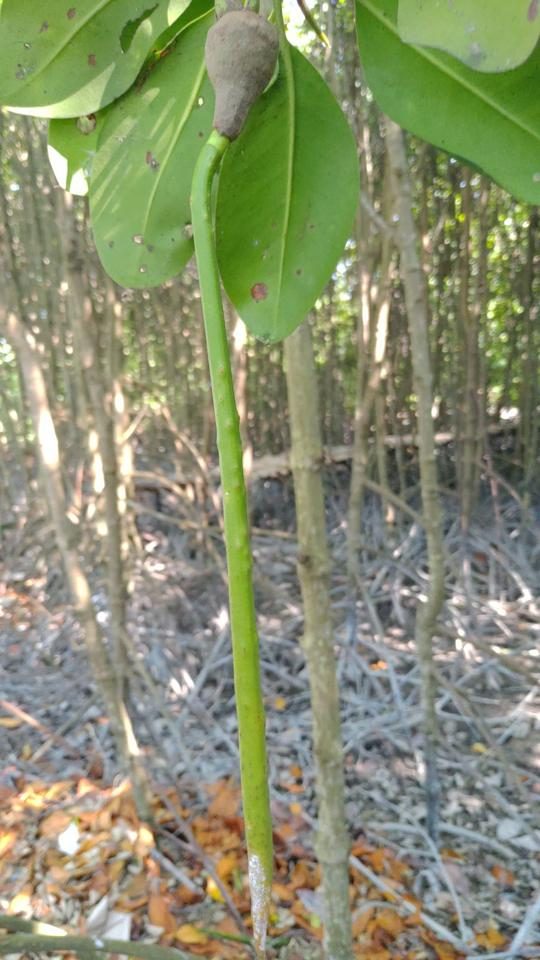setengah matang: (183, 8, 302, 959)
